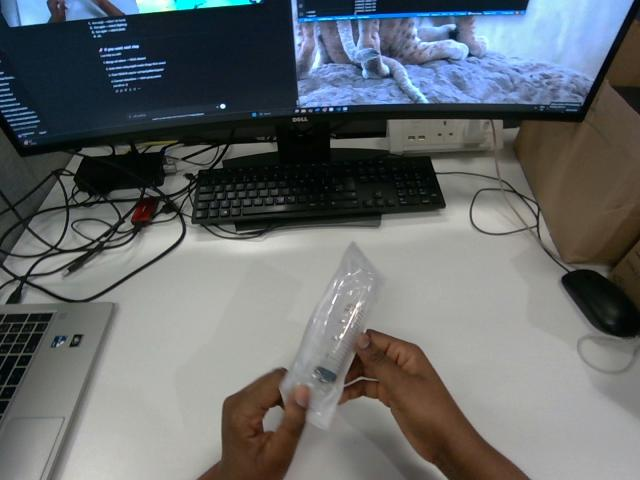syringe: (280, 243, 380, 429)
